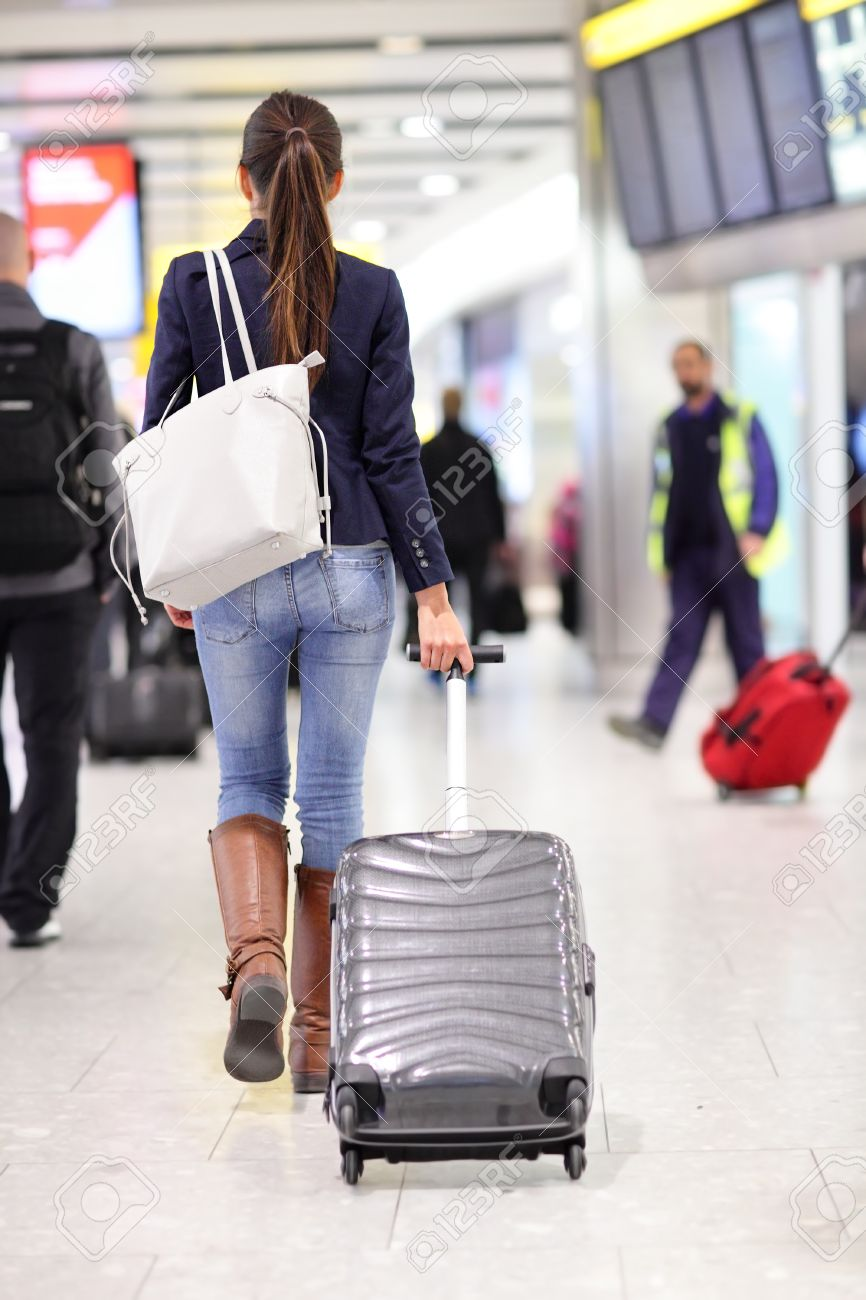bag: (92, 238, 349, 608)
luggage: (324, 644, 614, 1190), (689, 634, 856, 810)
people: (136, 87, 479, 1120)
